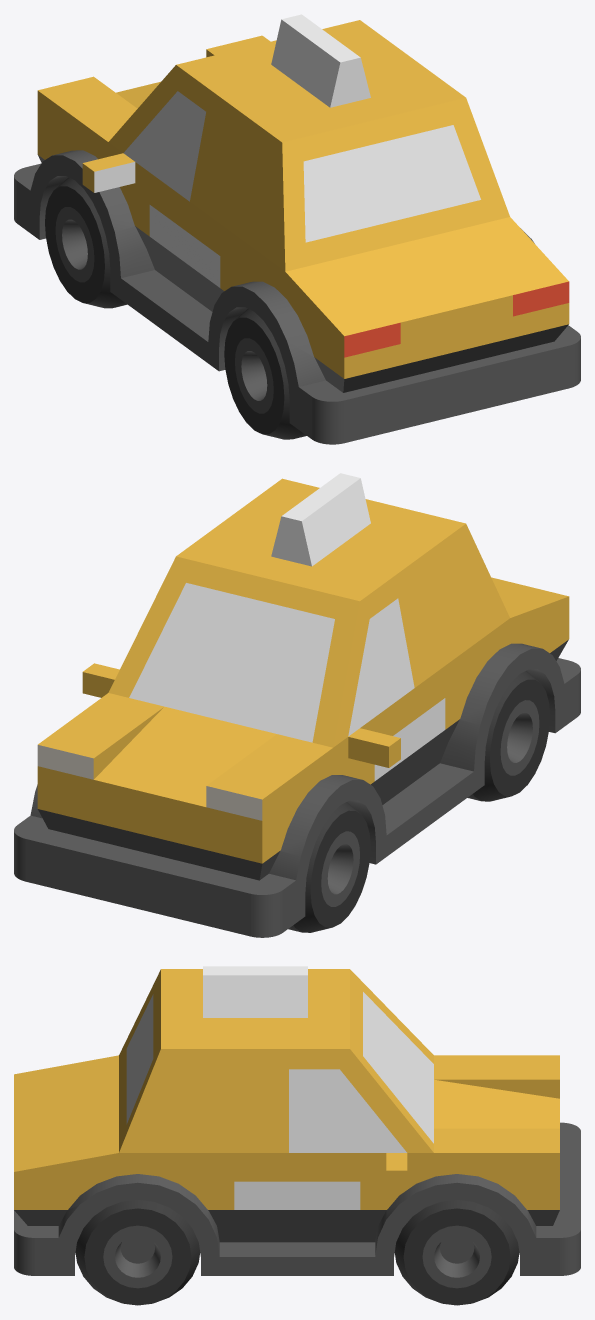
Rendered from taxi.glb.
3 renders of one model, top to bottom at view 1: azimuth 30°, elevation 25°; view 2: azimuth 150°, elevation 25°; view 3: azimuth 270°, elevation 25°, orthographic. The views are drawn at different scales.
Visible parts, largest first — view 1: taxi; view 2: taxi; view 3: taxi.
Boxes of the visible parts, x1,y1,x2,y2 form: taxi: (14,14,580,444); taxi: (14,473,580,937); taxi: (14,966,580,1305).
Bounding box in the file's own units: 2.25 × 2.25 × 4.05.
